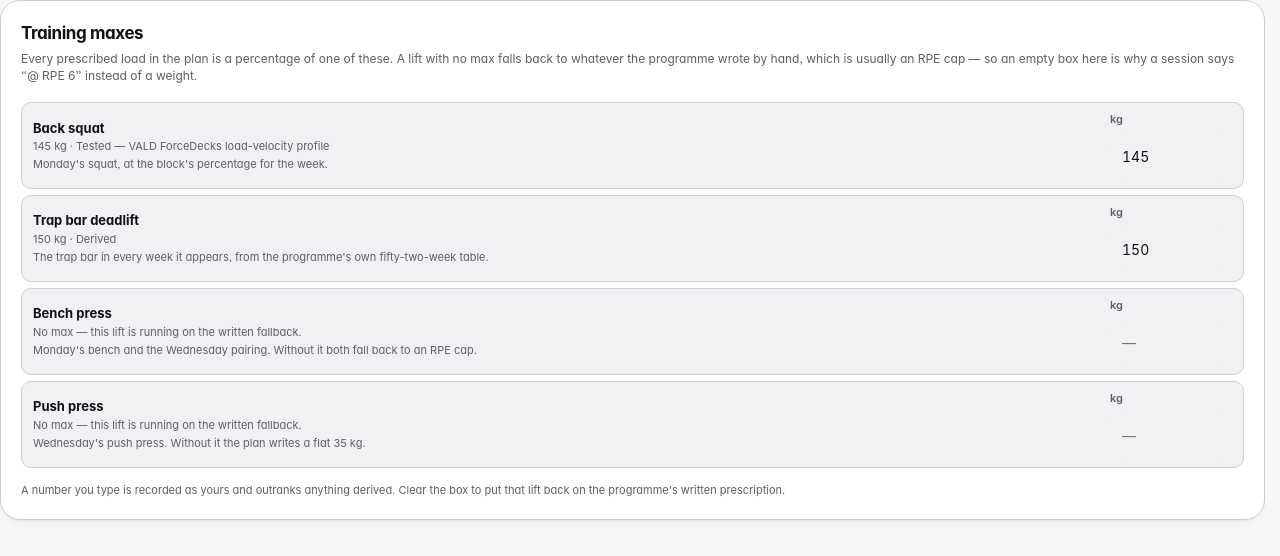
Test: the training maxes screen › refuses a typo instead of writing it behind every load in the year
The width and height of the screenshot is (1280, 556).
Replace the text in the 1st number field labelled "kg" with "1450" at coordinates (1171, 157), box [1110,135,1232,179]
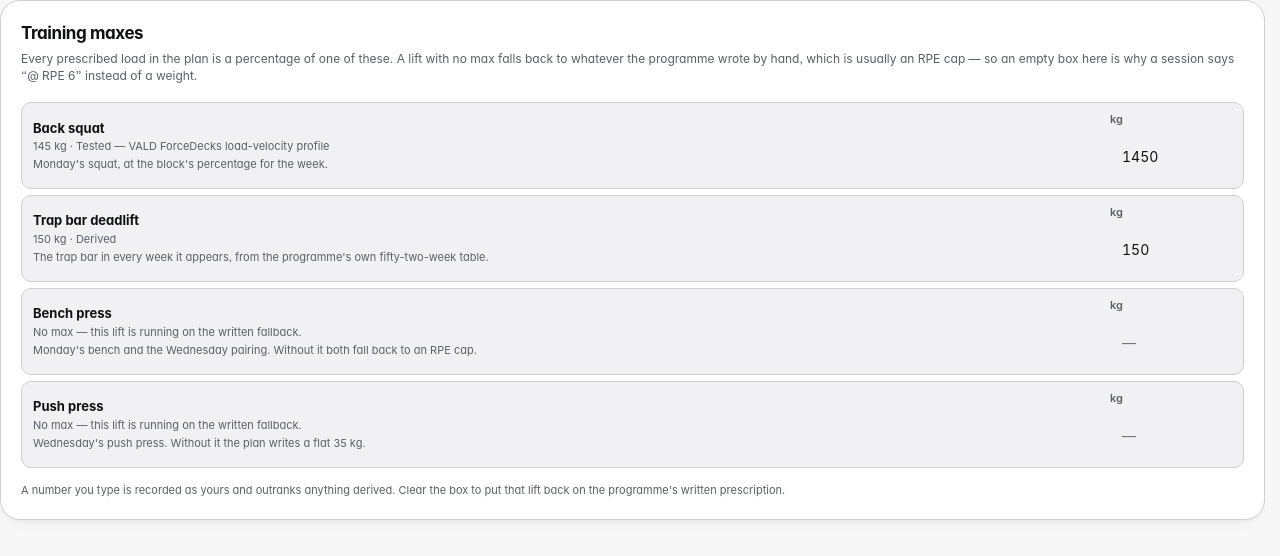
Leave the 1st number field labelled "kg", box [1110,135,1232,179]
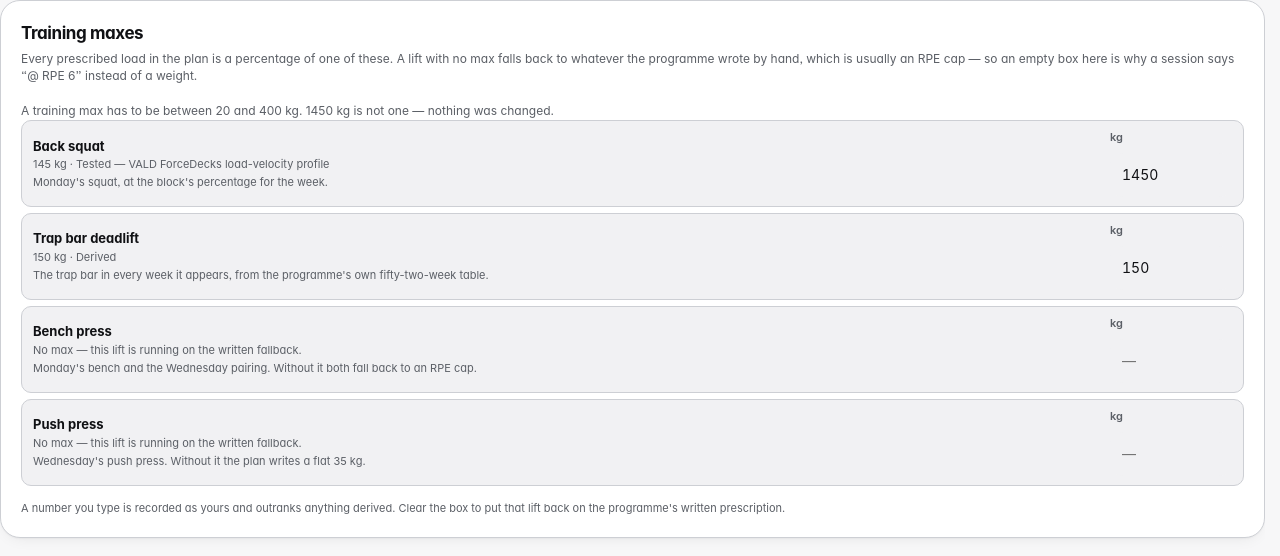
expect the message shows "nothing was changed": met, box [21,103,554,118]
